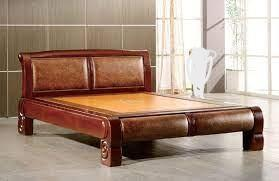Bed-Mattress: (12, 42, 262, 169)
